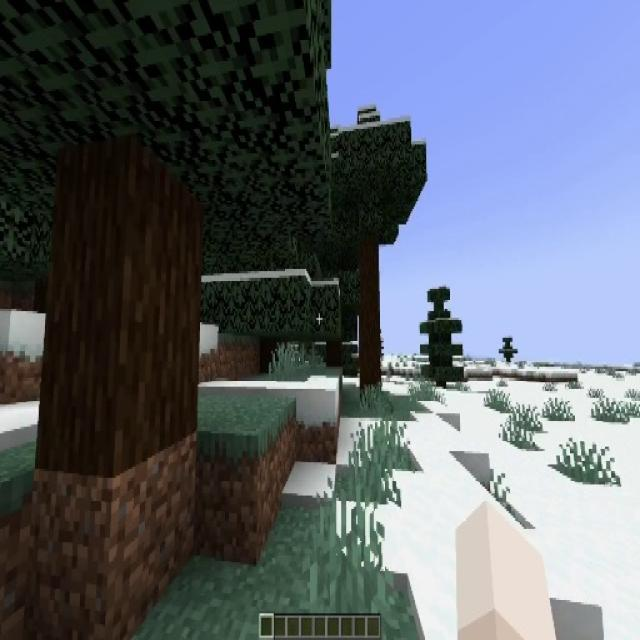spruce: (0, 0, 328, 482), (330, 96, 428, 399), (419, 289, 465, 391), (500, 336, 515, 364)
spruce_log: (35, 150, 198, 479), (356, 245, 382, 394), (260, 337, 286, 371), (326, 341, 342, 365)
